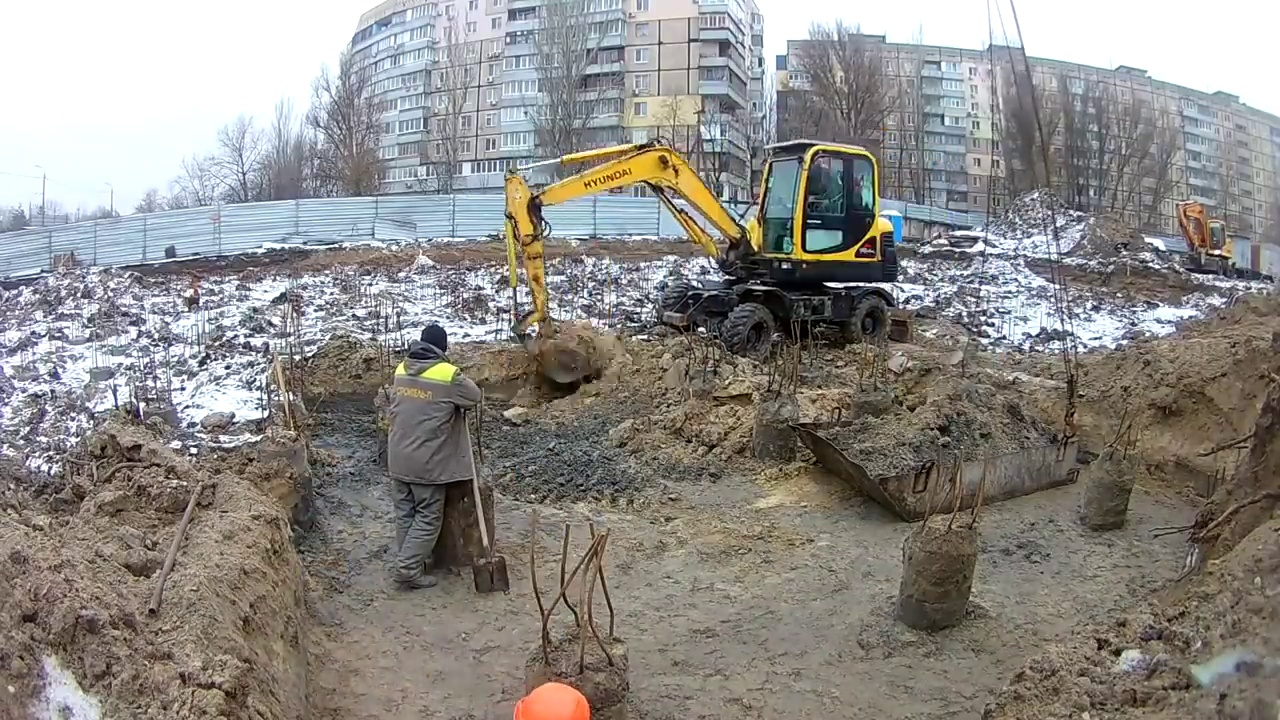helmet: (511, 679, 593, 720)
helmet-off: (410, 324, 448, 365)
person: (383, 324, 479, 590)
